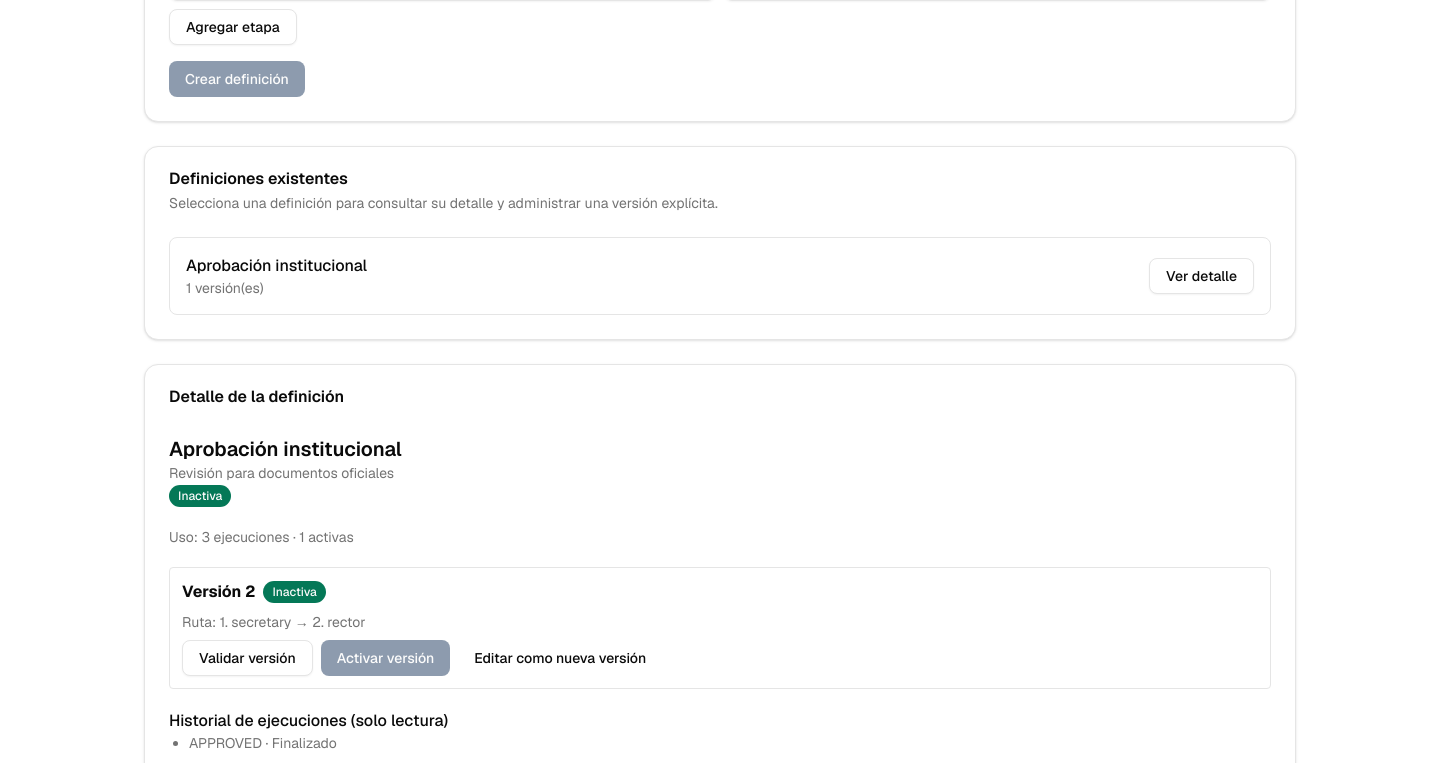
Scenario: WorkflowAdministration › prevents activation after validation reports an invalid version
The image size is (1440, 763).
(page scrolled)
Check: the button "Activar versión" is disabled, box [321, 640, 450, 676]
What coordinates should you click on to do the following:
click the button "Validar versión"
I would click on:
 (247, 658)
Its box is [182, 640, 313, 676].
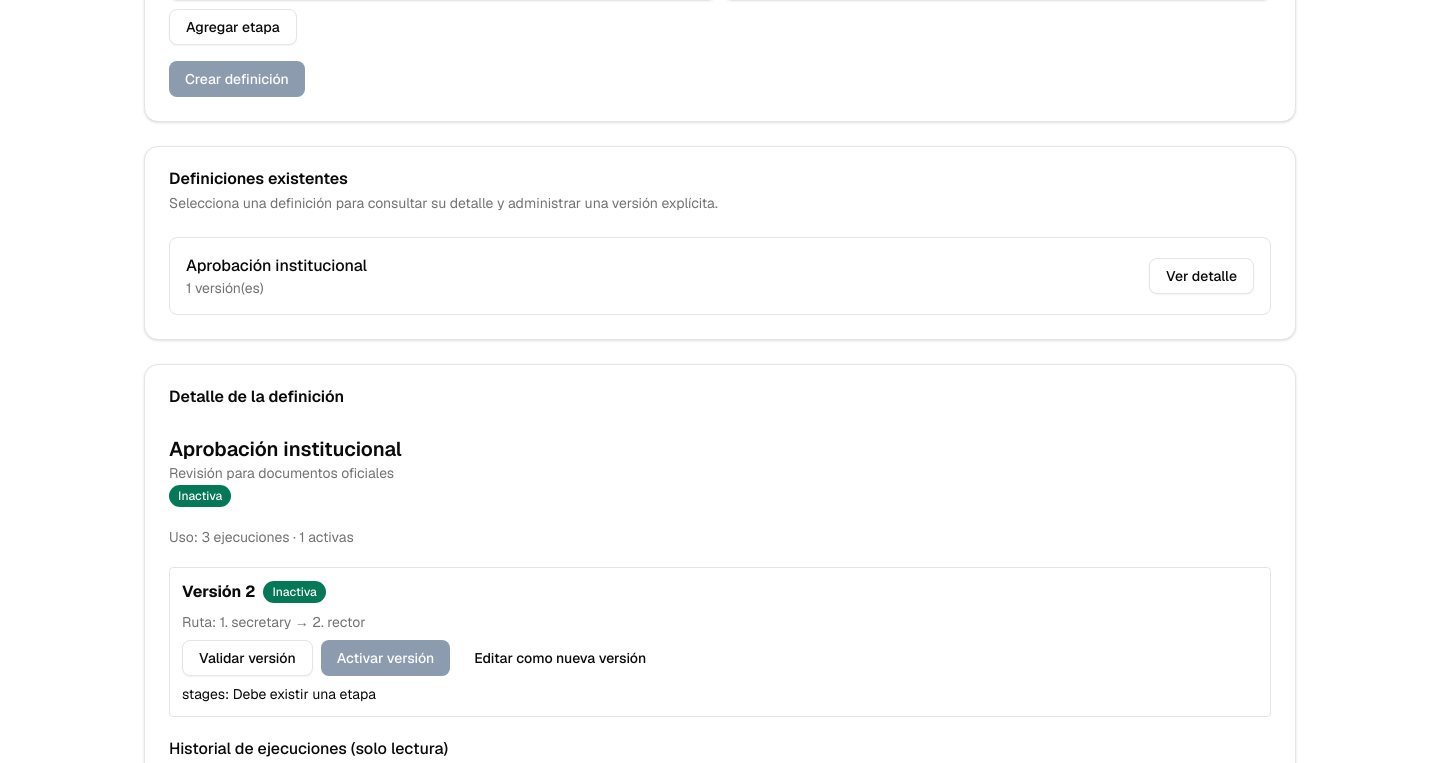
Check: the button "Activar versión" is disabled, box [321, 640, 450, 676]
Check: the message reads "stages: Debe existir una etapa", box [182, 685, 376, 703]
